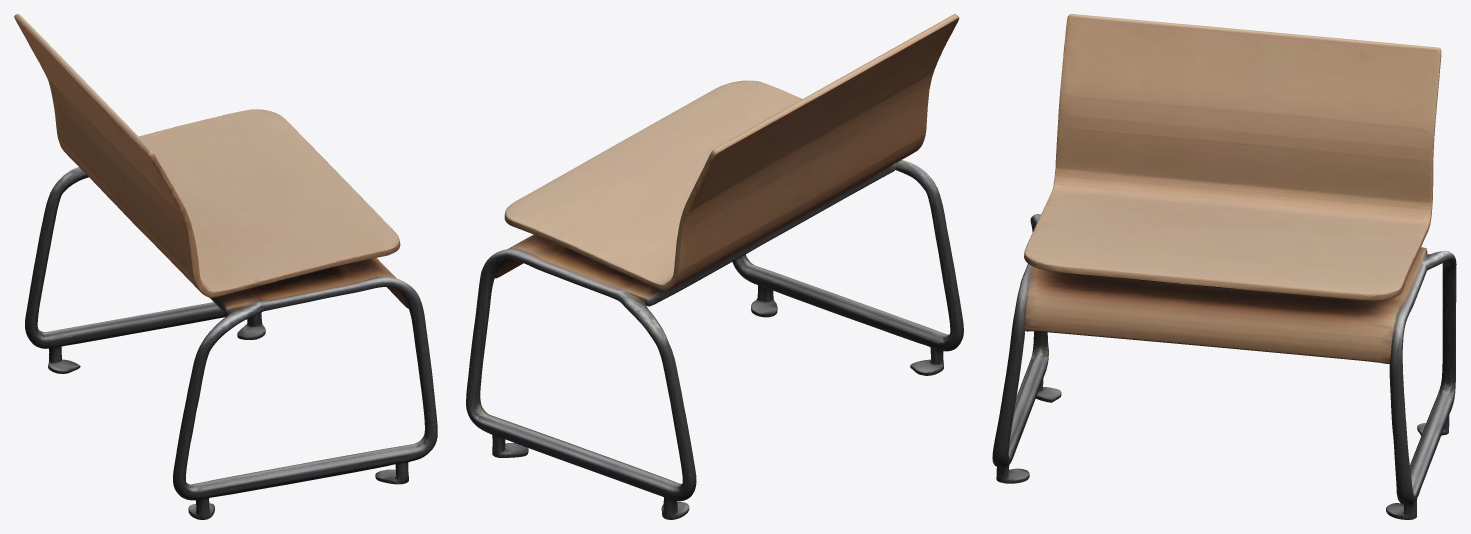
The model's file is wooden_chair_on_the_right_000.glb.
3 renders of one model, left to right at view 1: azimuth 30°, elevation 25°; view 2: azimuth 150°, elevation 25°; view 3: azimuth 270°, elevation 25°, orthographic. The views are drawn at different scales.
Parts seen in each view (by area): view 1: wooden_chair_on_the_right_000.obj; view 2: wooden_chair_on_the_right_000.obj; view 3: wooden_chair_on_the_right_000.obj.
Part boxes in pixels (x1=…): wooden_chair_on_the_right_000.obj: x1=14, y1=14, x2=437, y2=519; wooden_chair_on_the_right_000.obj: x1=466, y1=14, x2=963, y2=519; wooden_chair_on_the_right_000.obj: x1=992, y1=14, x2=1456, y2=519.
Bounding box in the file's own units: 0.4673 × 0.5387 × 0.6058.
Materials: 1 (1 with a texture image).
